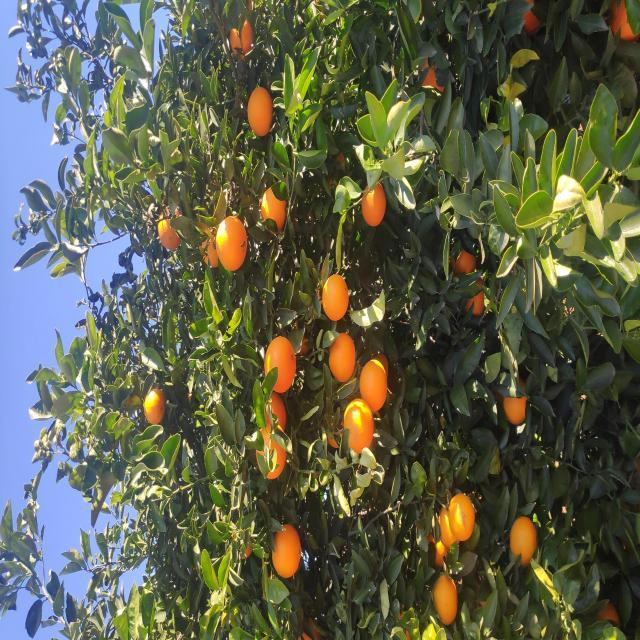Jeruk Sudah Matang: (247, 264, 304, 296), (368, 216, 425, 247), (186, 344, 241, 374), (62, 272, 116, 301), (161, 256, 212, 286), (228, 360, 281, 387), (408, 260, 456, 288), (320, 322, 368, 350), (99, 448, 147, 476), (75, 510, 124, 537), (504, 247, 554, 273), (15, 433, 66, 458), (216, 502, 264, 528), (259, 328, 305, 355), (207, 256, 247, 286), (414, 361, 460, 386), (391, 158, 435, 182), (544, 420, 584, 445), (601, 611, 640, 636), (92, 438, 136, 460), (324, 464, 364, 486), (373, 199, 418, 218), (582, 231, 620, 253), (364, 450, 392, 478), (72, 428, 106, 449), (217, 144, 250, 164), (14, 596, 38, 620), (194, 326, 224, 344), (610, 522, 640, 540)
